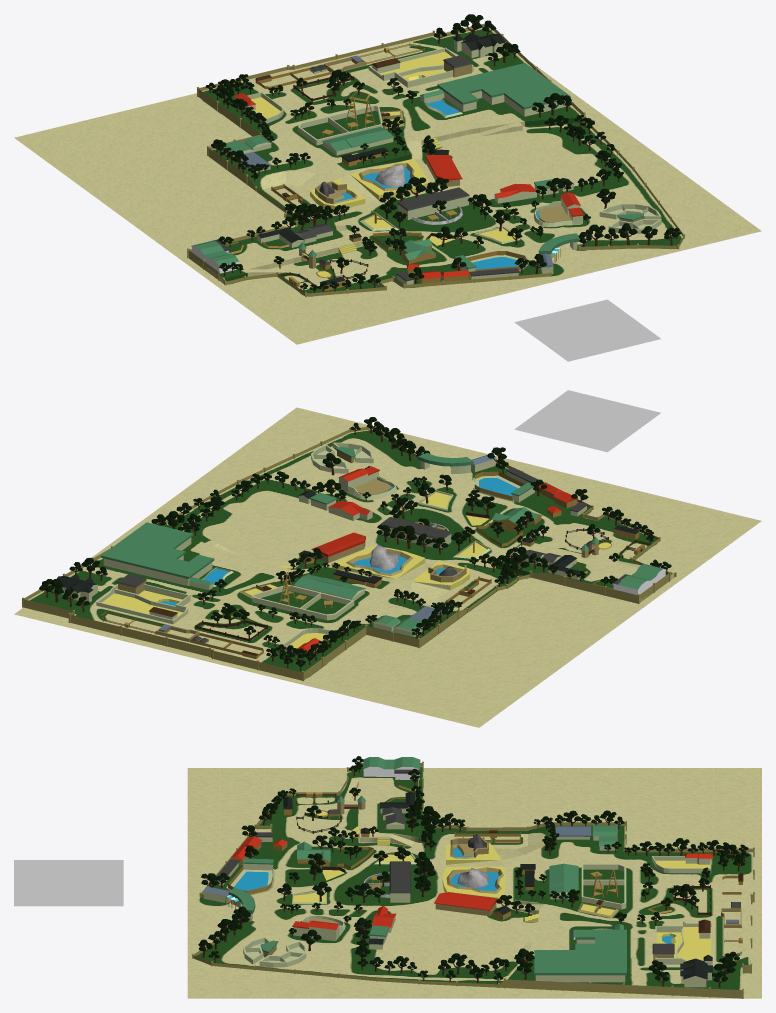
The model's file is map20130120.obj.
The picture shows the model from 3 angles, top to bottom: view 1: azimuth 30°, elevation 25°; view 2: azimuth 150°, elevation 25°; view 3: azimuth 270°, elevation 25°; orthographic projection.
Parts seen in each view (by area): view 1: ground.tex_Plane.004, 0.null_Plane.039, wall.outer.kabe_Plane.012, centre_Plane.135, panda.house_Plane.005, monkey.house_Plane.118, cats.runway_Cylinder, rhino.runway_Plane.140, monkeys.runway_Plane.123, hunter.house_Plane.138, squirell.house_Plane.063, hippo.runway_Plane.144 (+8 smaller); view 2: ground.tex_Plane.004, wall.outer.kabe_Plane.012, 0.null_Plane.039, centre_Plane.135, monkeys.runway_Plane.123, rhino.runway_Plane.140, cats.runway_Cylinder, monkey.house_Plane.118, squirell.house_Plane.063, hippo.runway_Plane.144, deco.house.010_Plane.000, panda.house_Plane.005 (+10 smaller); view 3: ground.tex_Plane.004, 0.null_Plane.039, wall.outer.kabe_Plane.012, centre_Plane.135, hippo.runway_Plane.144, cats.runway_Cylinder, deco.house.010_Plane.000, squirell.house_Plane.063, monkeys.runway_Plane.123, panda.house_Plane.005, monkey.house_Plane.118, hunter.house_Plane.138 (+13 smaller).
Part boxes in pixels (x1,y1,x2,y2): ground.tex_Plane.004: (14,26,761,344); 0.null_Plane.039: (514,299,660,361); wall.outer.kabe_Plane.012: (188,23,683,296); centre_Plane.135: (437,63,570,116); panda.house_Plane.005: (397,187,469,219); monkey.house_Plane.118: (322,127,394,155); cats.runway_Cylinder: (599,203,661,233); rhino.runway_Plane.140: (368,47,473,87); monkeys.runway_Plane.123: (298,105,383,145); hunter.house_Plane.138: (453,33,505,58); squirell.house_Plane.063: (191,239,239,273); hippo.runway_Plane.144: (380,52,452,80); ground.tex_Plane.004: (14,407,761,727); wall.outer.kabe_Plane.012: (23,426,675,680); 0.null_Plane.039: (514,390,660,452); centre_Plane.135: (101,522,214,585); monkeys.runway_Plane.123: (252,584,354,620); rhino.runway_Plane.140: (96,584,190,624); cats.runway_Cylinder: (311,442,373,473); monkey.house_Plane.118: (294,574,365,600); squirell.house_Plane.063: (612,564,666,594); hippo.runway_Plane.144: (102,590,182,616); deco.house.010_Plane.000: (311,532,365,562); panda.house_Plane.005: (380,517,451,548); ground.tex_Plane.004: (187,766,761,998); 0.null_Plane.039: (14,860,123,906); wall.outer.kabe_Plane.012: (193,763,753,998); centre_Plane.135: (534,929,626,982); hippo.runway_Plane.144: (656,927,711,960); cats.runway_Cylinder: (243,937,306,967); deco.house.010_Plane.000: (434,892,497,916); squirell.house_Plane.063: (363,757,420,779); monkeys.runway_Plane.123: (581,863,626,909); panda.house_Plane.005: (389,861,410,902); monkey.house_Plane.118: (549,863,578,899); hunter.house_Plane.138: (680,954,712,987).
Size of what is drawn, in the model's own units: 9.98 by 0.6072 by 13.65.
